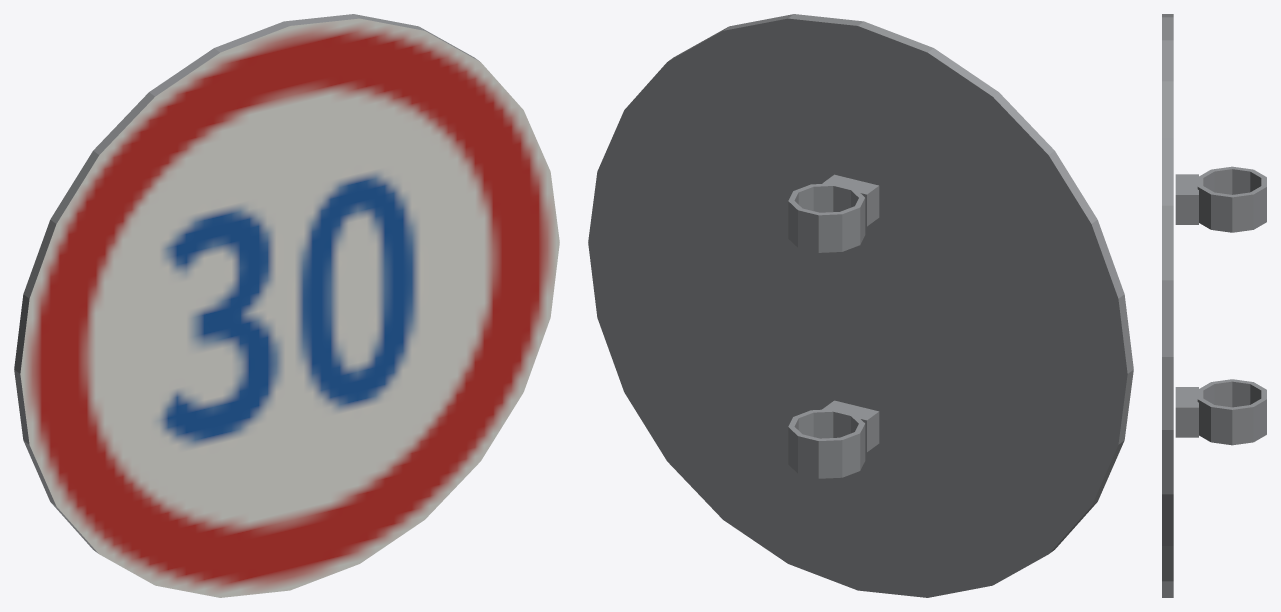
File: SM_Street_Sign_Speed30_01.fbx
3 views of the same model, side by side, from view 1: azimuth 30°, elevation 25°; view 2: azimuth 150°, elevation 25°; view 3: azimuth 270°, elevation 25° (orthographic). The views are drawn at different scales.
Visible parts, largest first — view 1: SM_Street_Sign_Speed30_01; view 2: SM_Street_Sign_Speed30_01; view 3: SM_Street_Sign_Speed30_01.
Part boxes in pixels (box(x1,y1,x2,y2)): SM_Street_Sign_Speed30_01: box(14, 14, 559, 597); SM_Street_Sign_Speed30_01: box(588, 14, 1133, 597); SM_Street_Sign_Speed30_01: box(1162, 14, 1266, 597).
Bounding box in the file's own units: 0.6 × 0.6 × 0.1074.
1 material, 1 textured.
